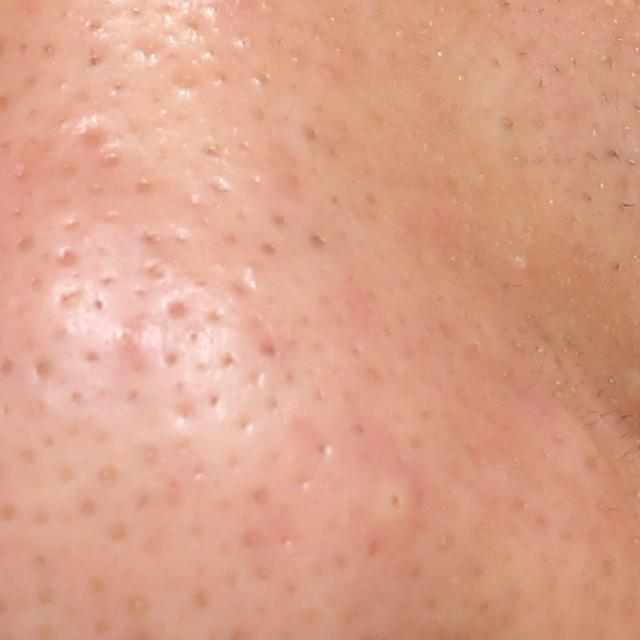comedo: (366, 477, 421, 521), (507, 250, 532, 273)
